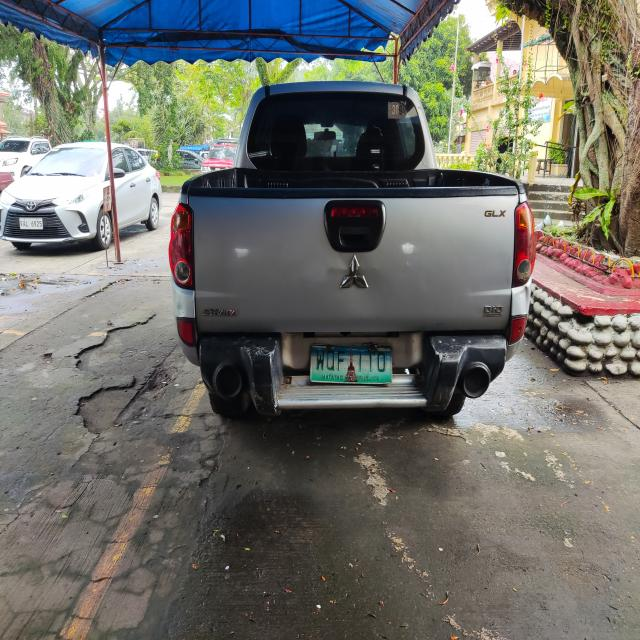plate: (308, 342, 394, 386)
